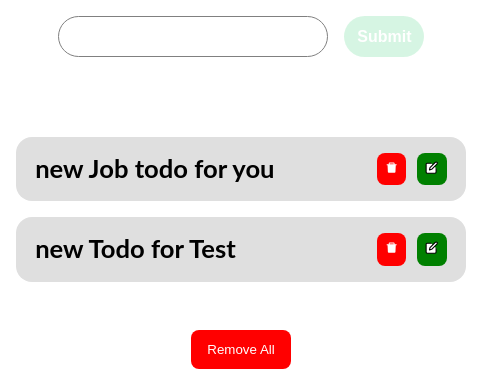
Test case: todo functions › remove old todo
Expected: the element with id "5000" is shown, x1=16 y1=137 x2=466 y2=201
Click the 1st button with test id "delete": (392, 169) x1=377 y1=153 x2=406 y2=185
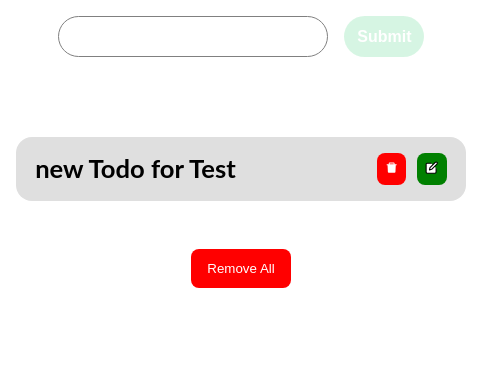
Expected: the element with id "5000" is gone
